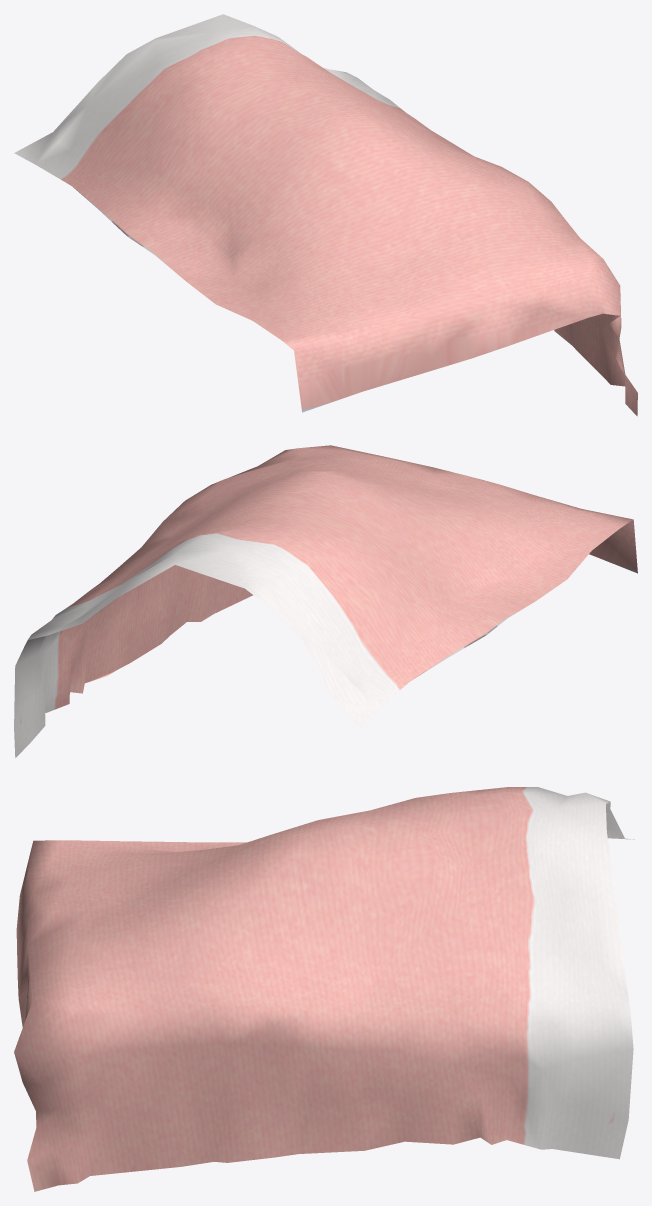
File: SM_prop_Laboratory_Bed_edit_Stage1.fbx
3 renders of one model, top to bottom at view 1: azimuth 30°, elevation 25°; view 2: azimuth 150°, elevation 25°; view 3: azimuth 270°, elevation 25°, orthographic. The views are drawn at different scales.
Visible parts, largest first — view 1: SM_prop_Laboratory_Blenket_low; view 2: SM_prop_Laboratory_Blenket_low; view 3: SM_prop_Laboratory_Blenket_low.
Boxes of the visible parts, x1,y1,x2,y2 form: SM_prop_Laboratory_Blenket_low: (14,14,637,416); SM_prop_Laboratory_Blenket_low: (14,445,637,757); SM_prop_Laboratory_Blenket_low: (14,787,634,1191).
Size of the model in its own units: 110 by 74.39 by 148.
1 material, 1 textured.
